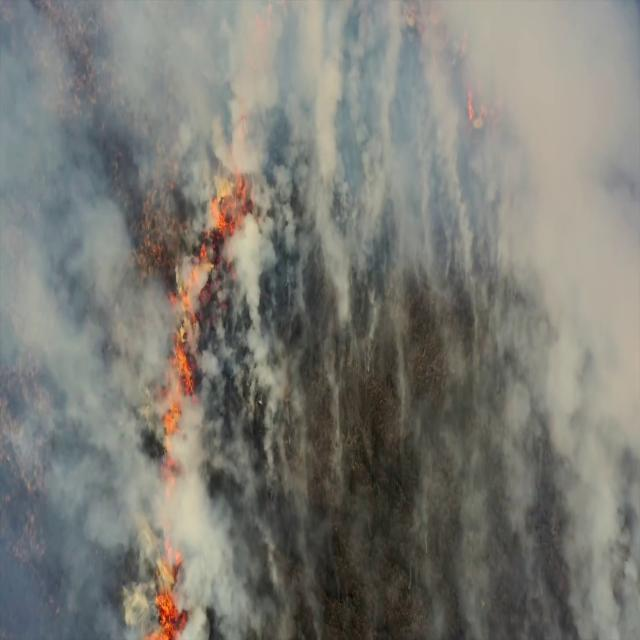Fire: (214, 156, 258, 232), (170, 292, 195, 395), (149, 568, 184, 637)
Smoke: (0, 0, 132, 363), (0, 363, 148, 640), (217, 9, 487, 131), (545, 93, 640, 316), (298, 0, 361, 335), (236, 283, 282, 640), (502, 0, 639, 118), (398, 362, 452, 640), (496, 330, 544, 640), (431, 0, 478, 291), (448, 346, 496, 630), (556, 303, 640, 463), (153, 23, 219, 187), (162, 452, 224, 557)
